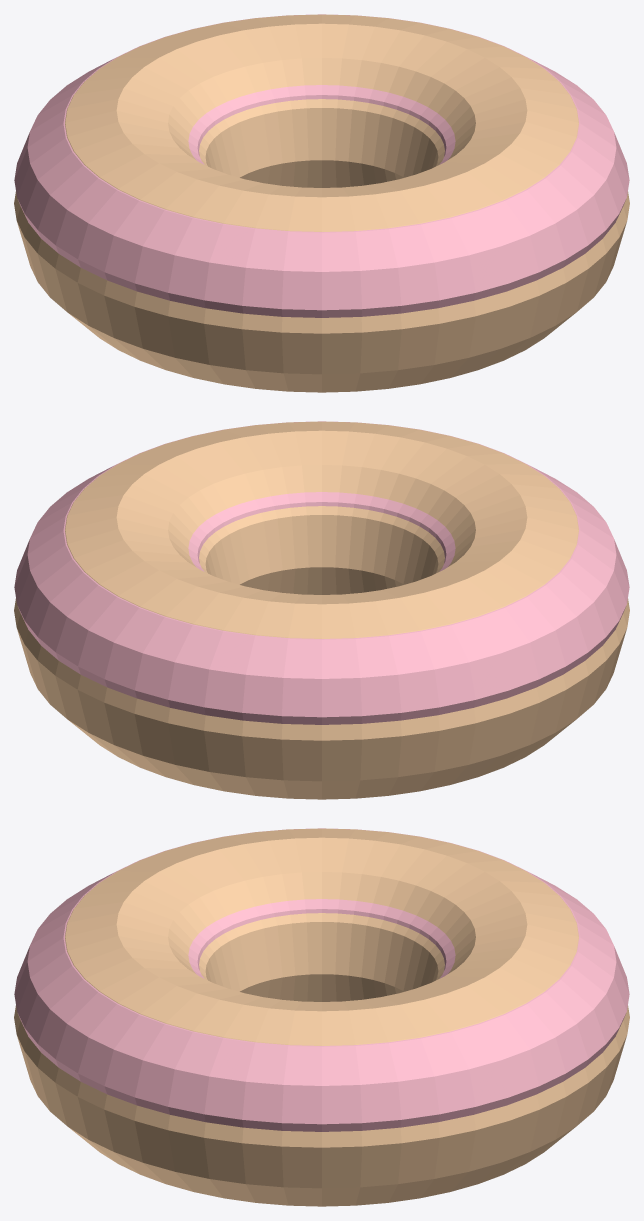
The model's file is item_donut.glb.
3 renders of one model, top to bottom at view 1: azimuth 30°, elevation 25°; view 2: azimuth 150°, elevation 25°; view 3: azimuth 270°, elevation 25°, orthographic.
Parts seen in each view (by area): view 1: item_donut; view 2: item_donut; view 3: item_donut.
Part boxes in pixels (x1,y1,x2,y2): item_donut: [14, 14, 629, 392]; item_donut: [14, 421, 629, 799]; item_donut: [14, 828, 629, 1206].
Bounding box in the file's own units: 0.96 × 0.32 × 0.96.
